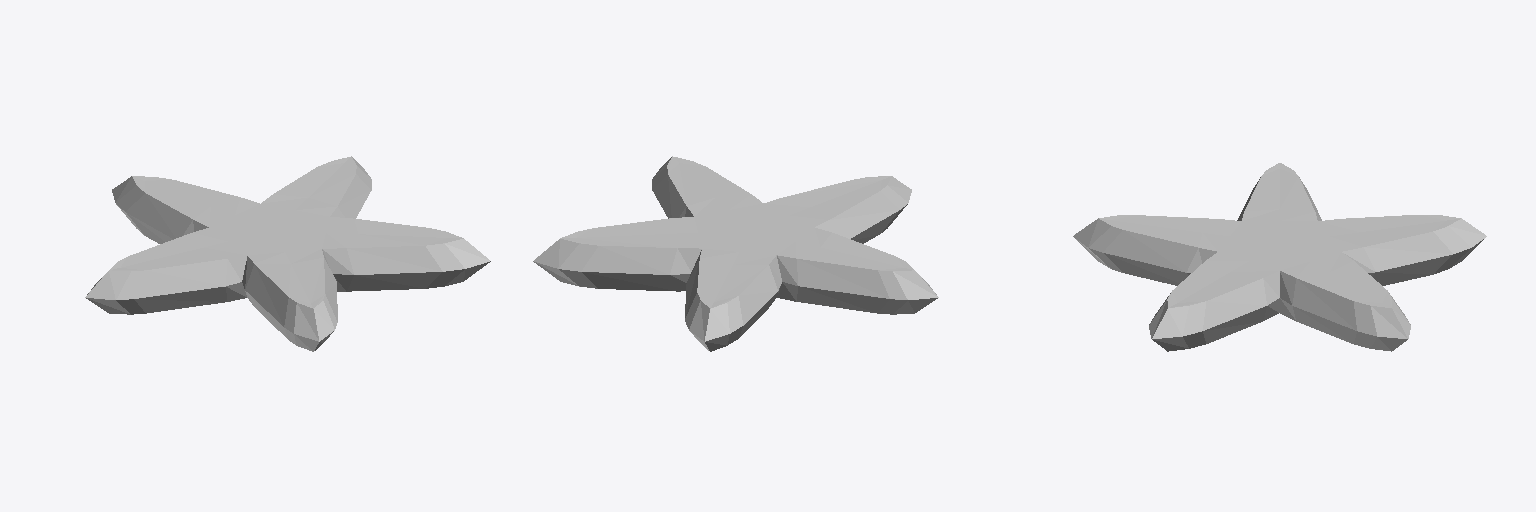
File: Starfish_01_LOD2.obj
The picture shows the model from 3 angles: view 1: azimuth 30°, elevation 25°; view 2: azimuth 150°, elevation 25°; view 3: azimuth 270°, elevation 25°; orthographic projection.
Parts seen in each view (by area): view 1: Starfish_01_LOD2_Star.003; view 2: Starfish_01_LOD2_Star.003; view 3: Starfish_01_LOD2_Star.003.
Part boxes in pixels (left/top/right/bottom): Starfish_01_LOD2_Star.003: left=85, top=156, right=490, bottom=351; Starfish_01_LOD2_Star.003: left=533, top=156, right=938, bottom=351; Starfish_01_LOD2_Star.003: left=1073, top=163, right=1486, bottom=351.
Bounding box in the file's own units: 4.98 × 0.603 × 5.23.